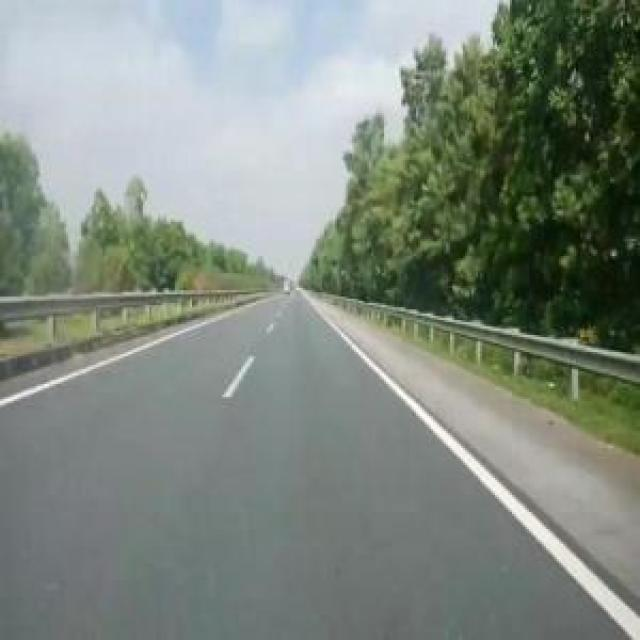clear-road: (0, 295, 622, 640)
